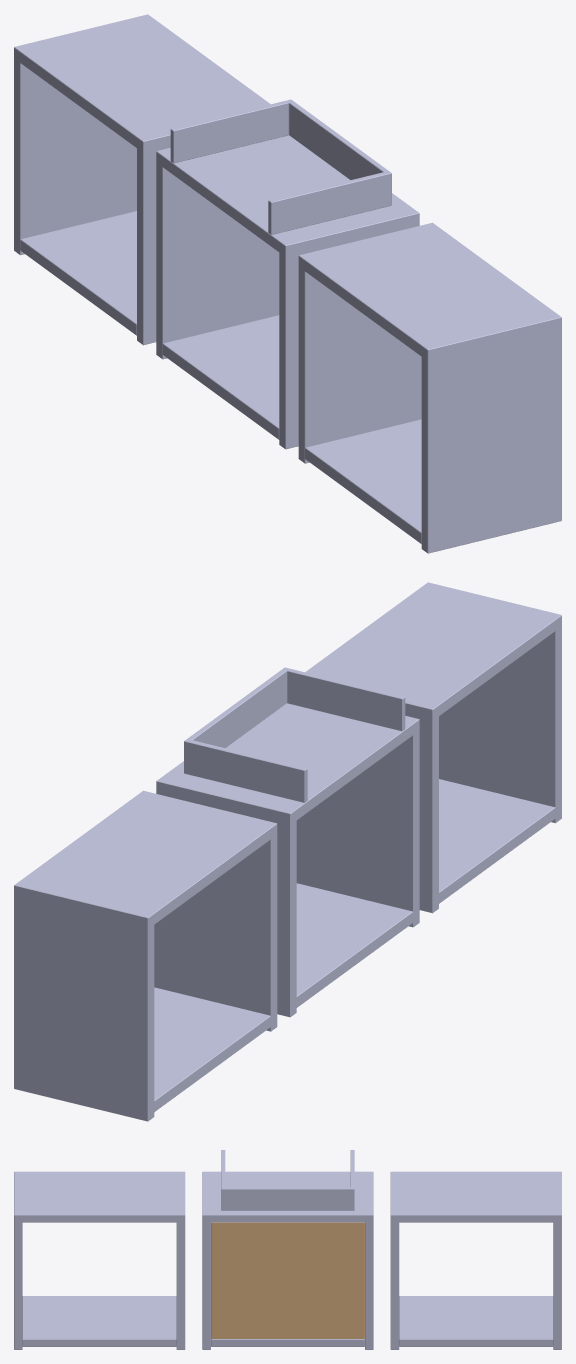
File: SM_stand_5.fbx
3 views of the same model, one above another, from view 1: azimuth 30°, elevation 25°; view 2: azimuth 150°, elevation 25°; view 3: azimuth 270°, elevation 25° (orthographic). The views are drawn at different scales.
Parts seen in each view (by area): view 1: SM_stand_5; view 2: SM_stand_5; view 3: SM_stand_5.
Boxes of the visible parts, box(x1,y1,x2,y2) form: SM_stand_5: box(14, 14, 561, 553); SM_stand_5: box(14, 582, 561, 1121); SM_stand_5: box(14, 1150, 561, 1349).
Size of the model in its own units: 60 by 101 by 320.
